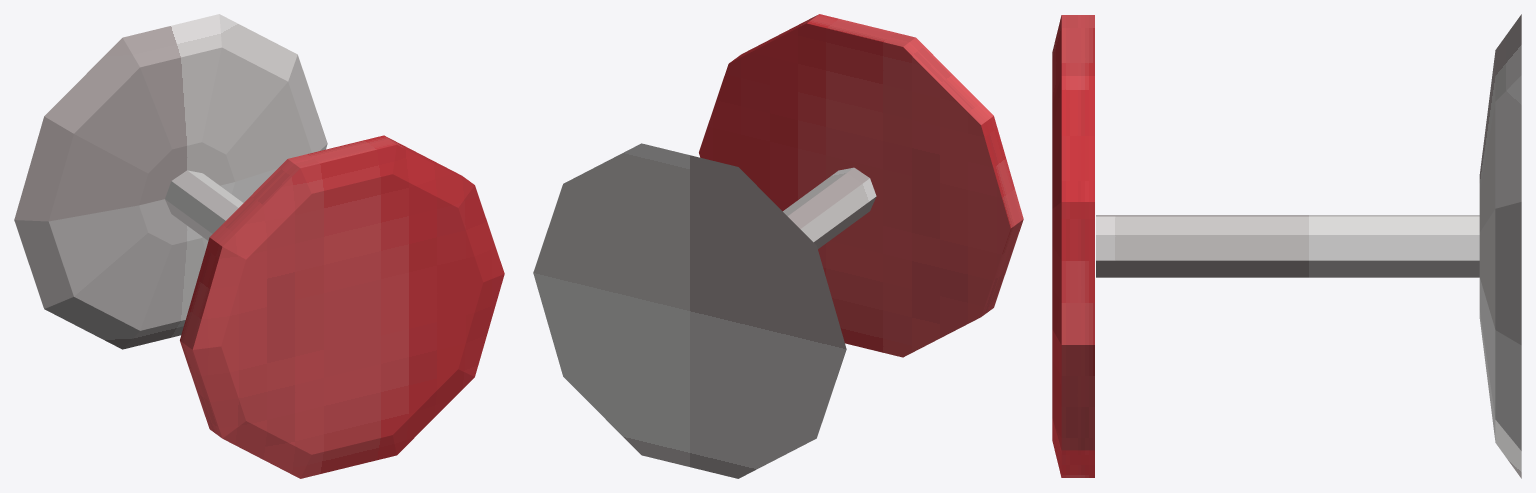
Rendered from pz_house_stool_diner_fidelity_r1.obj.
3 views of the same model, side by side, from view 1: azimuth 30°, elevation 25°; view 2: azimuth 150°, elevation 25°; view 3: azimuth 270°, elevation 25° (orthographic). The views are drawn at different scales.
Visible parts, largest first — view 1: seat, metal; view 2: metal, seat; view 3: metal, seat.
Part boxes in pixels (x1=…): seat: x1=180, y1=135, x2=504, y2=478; metal: x1=14, y1=14, x2=327, y2=349; metal: x1=533, y1=143, x2=876, y2=478; seat: x1=699, y1=14, x2=1023, y2=357; metal: x1=1096, y1=14, x2=1521, y2=478; seat: x1=1052, y1=15, x2=1094, y2=477.
Bounding box in the file's own units: 0.5593 × 0.5319 × 0.5602.
1 material, 1 textured.
